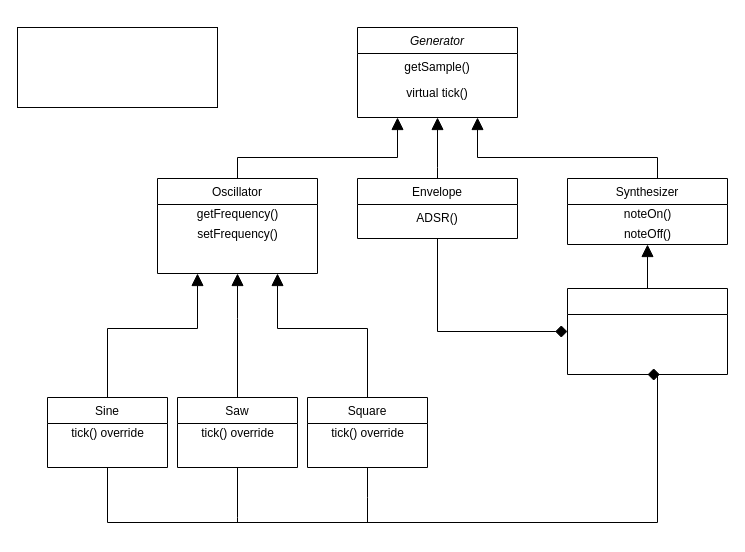
The diagram is 745 pixels wide and 552 high, and some of its shapes have lost their labels. The centre of each missing label's shape, as x and y in pixels:
"ADSR Envelope Class Diagram" goes at point (117, 67).
"Voice" goes at point (647, 331).
